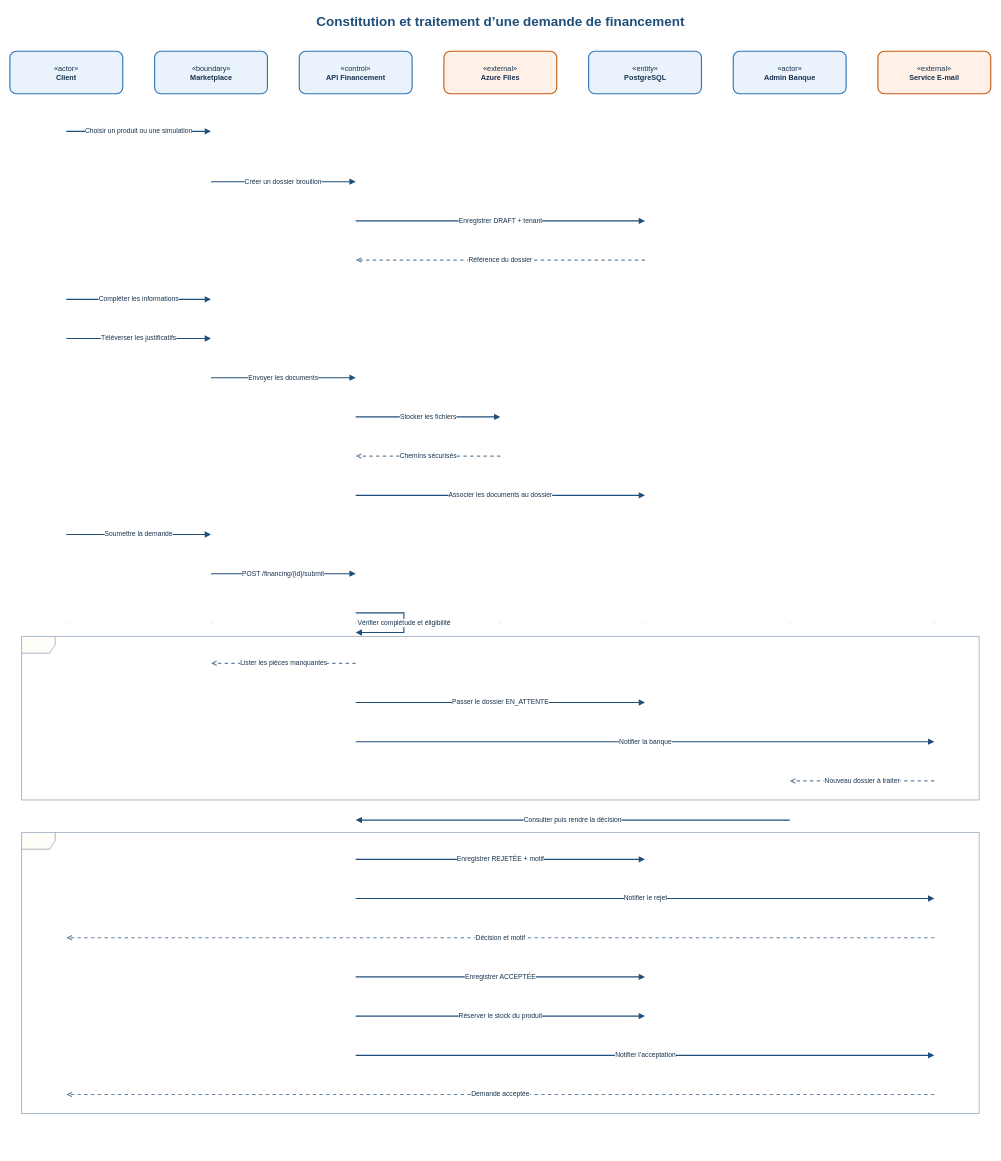
Image size: 1001x1161. Some labels were removed from this diagram. Each missing label, with the centre of its shape:
"alt [dossier incomplet]" belongs at point (500, 718).
"alt [rejet]" belongs at point (500, 973).
